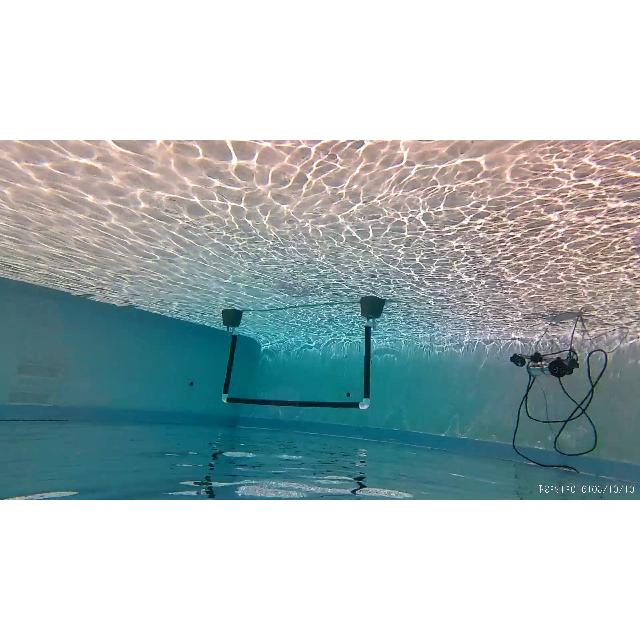prequal gate: (221, 321, 373, 409)
prequal gate leg l: (358, 324, 372, 410)
prequal gate leg r: (220, 327, 240, 403)
